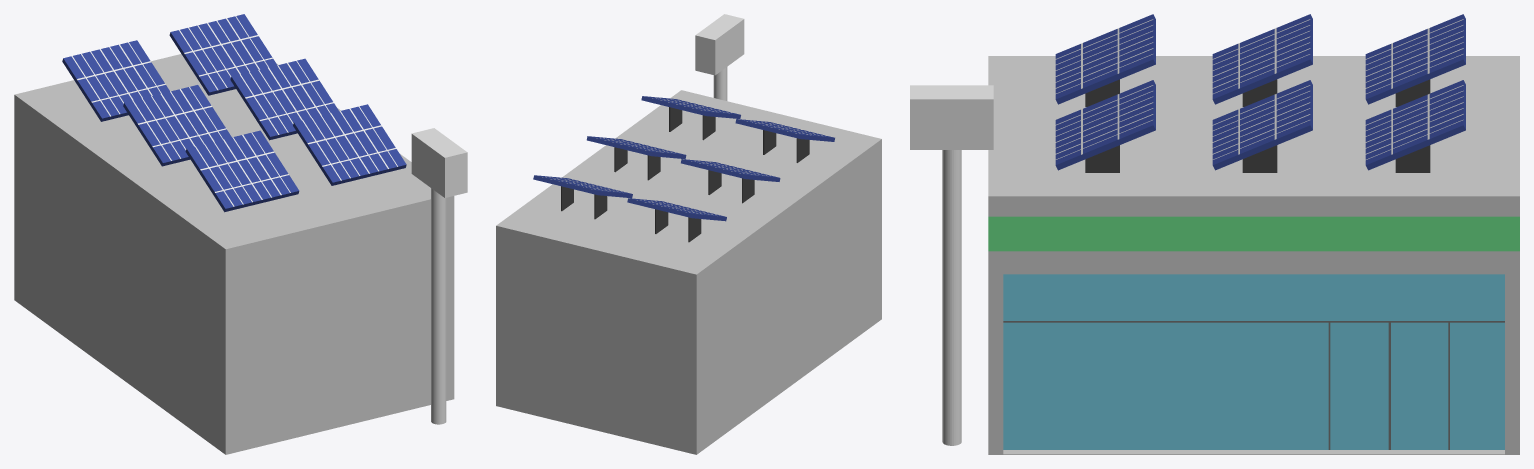
File: 21_convenienceStore_eco.fbx
3 views of the same model, side by side, from view 1: azimuth 30°, elevation 25°; view 2: azimuth 150°, elevation 25°; view 3: azimuth 270°, elevation 25° (orthographic). The views are drawn at different scales.
Visible parts, largest first — view 1: 立方体.006; view 2: 立方体.006; view 3: 立方体.006.
Boxes of the visible parts, box(x1,y1,x2,y2) form: 立方体.006: box(14, 14, 467, 454); 立方体.006: box(496, 14, 881, 454); 立方体.006: box(910, 14, 1519, 454).
Bounding box in the file's own units: 383 × 446 × 704.
